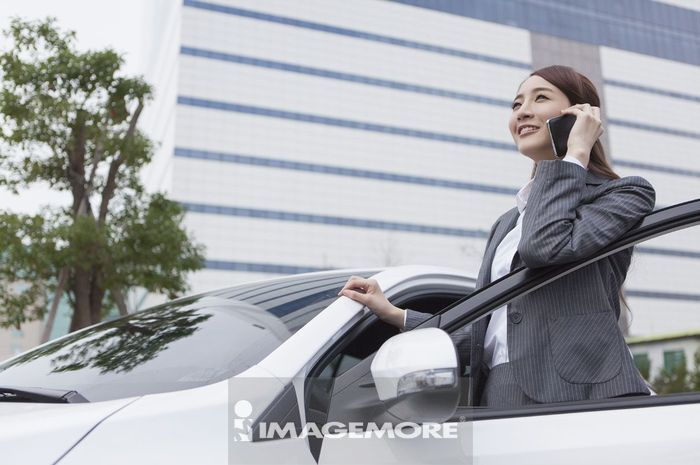phone: (547, 114, 580, 155)
talk: (508, 85, 603, 162)
